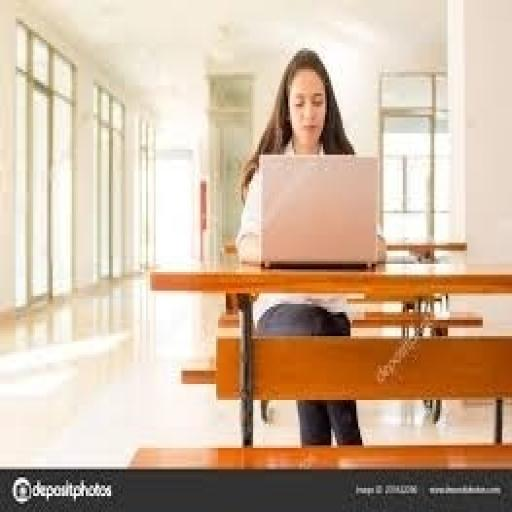using_laptop: (255, 152, 380, 269)
